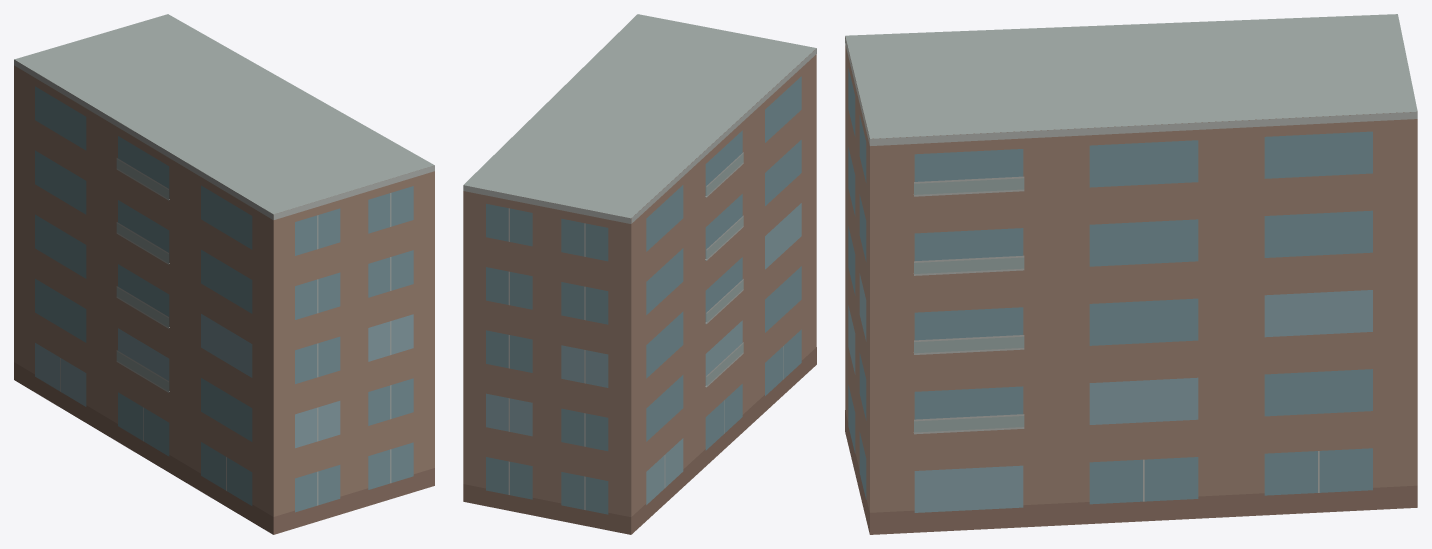
Rendered from survey-upis-32520156.glb.
The picture shows the model from 3 angles, left to right: view 1: azimuth 30°, elevation 25°; view 2: azimuth 150°, elevation 25°; view 3: azimuth 270°, elevation 25°; orthographic projection. The views are drawn at different scales.
Parts seen in each view (by area): view 1: survey-upis-32520156.tmp; view 2: survey-upis-32520156.tmp; view 3: survey-upis-32520156.tmp.
Part boxes in pixels (x1,y1,x2,y2): survey-upis-32520156.tmp: (14,14,434,534); survey-upis-32520156.tmp: (463,14,816,534); survey-upis-32520156.tmp: (845,14,1417,534).
Size of the model in its own units: 9.01 by 13.3 by 17.44.
